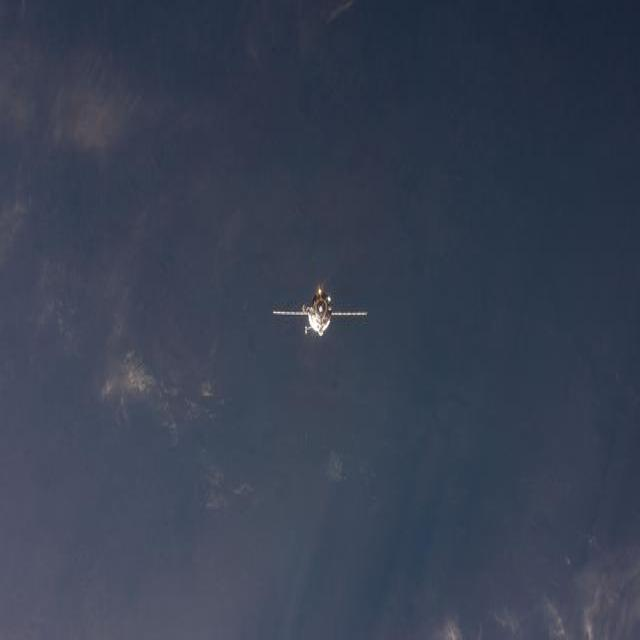medium_debris: (272, 288, 368, 336)
